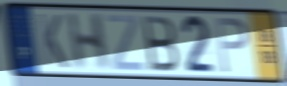2: (180, 13, 218, 78)
B: (140, 14, 181, 74)
H: (65, 12, 111, 73)
K: (35, 11, 71, 71)
P: (213, 15, 250, 76)
Z: (105, 14, 146, 73)
